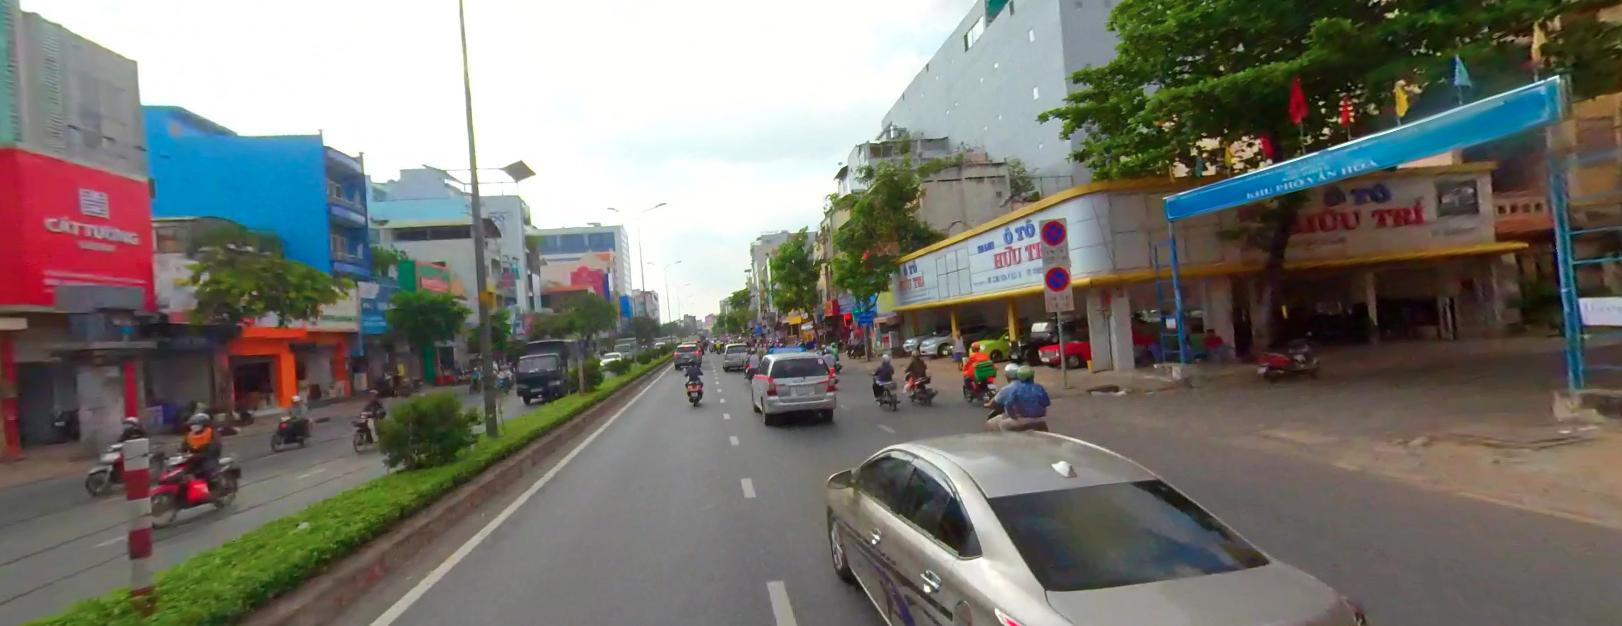Cam dung va do: (1041, 219, 1065, 244), (1045, 266, 1069, 290)
